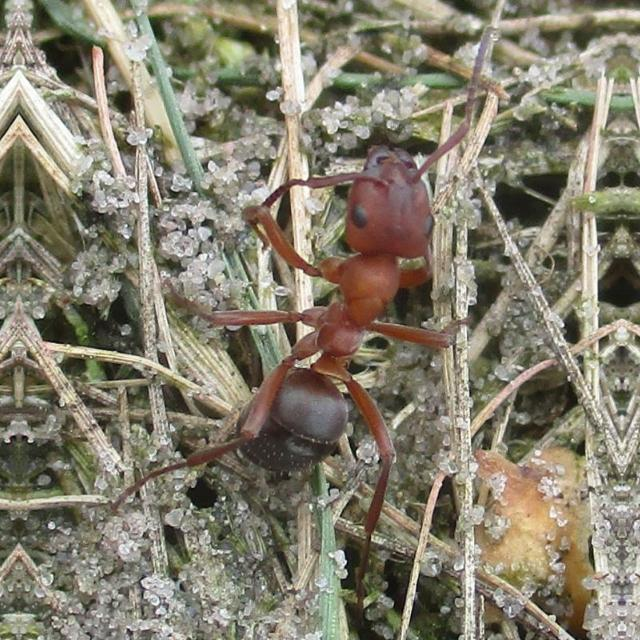Formica: (176, 125, 492, 488)
